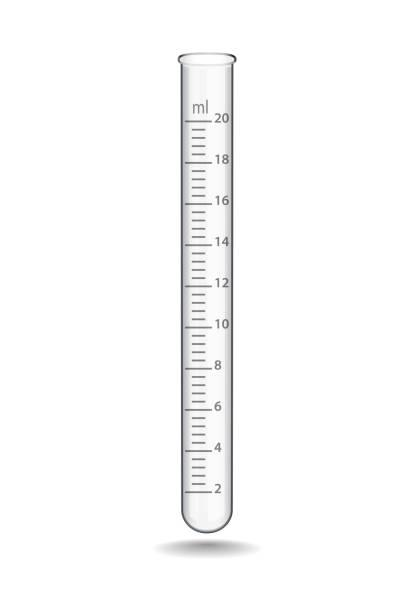Test tube: (169, 46, 238, 532)
